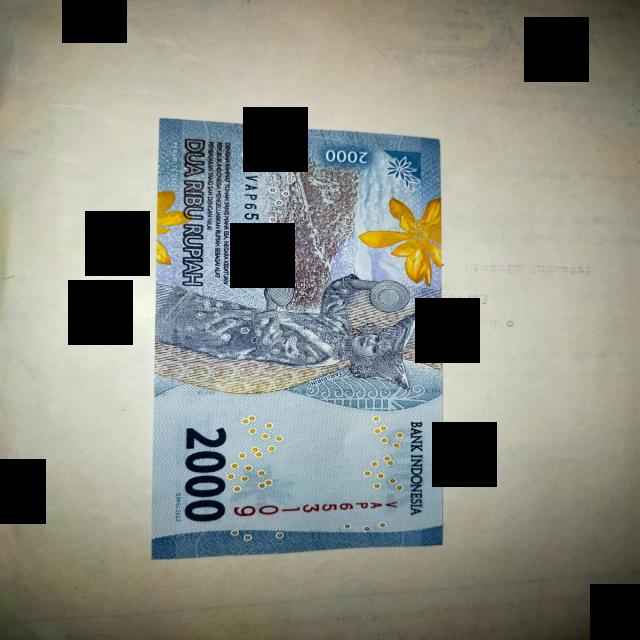dua ribu rupiah: (152, 119, 442, 559)
